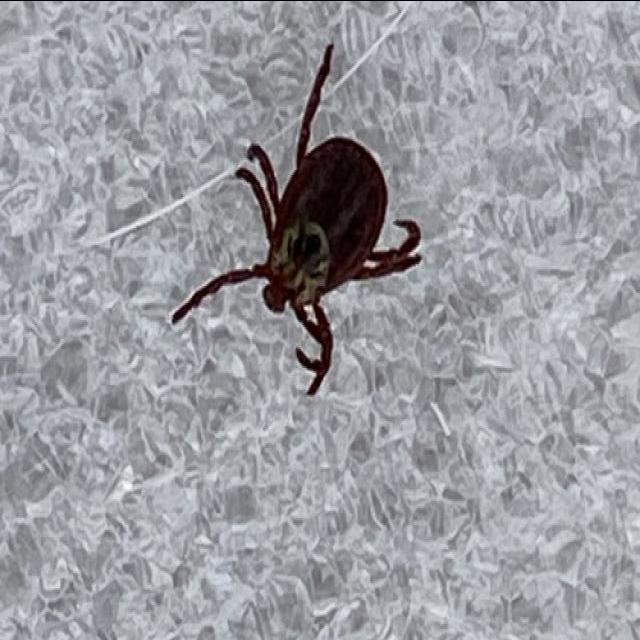Dermacentor Reticulatus-F: (172, 43, 420, 394)
